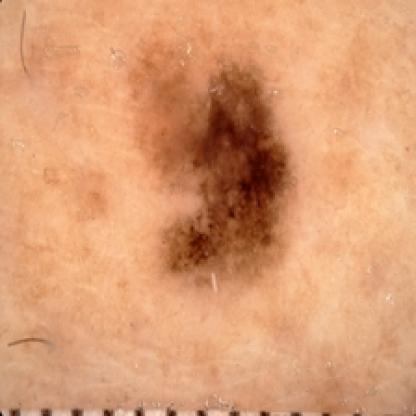Skin_Cancer-Malignant: (159, 60, 299, 290)
